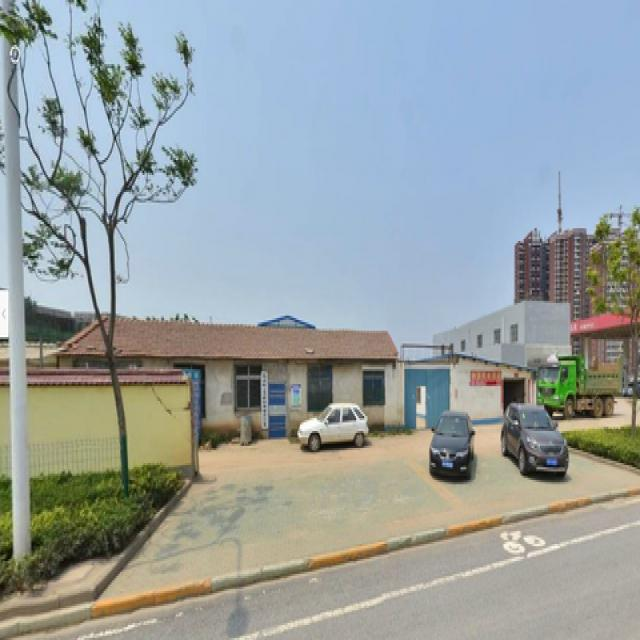koel: (42, 26, 154, 487)
